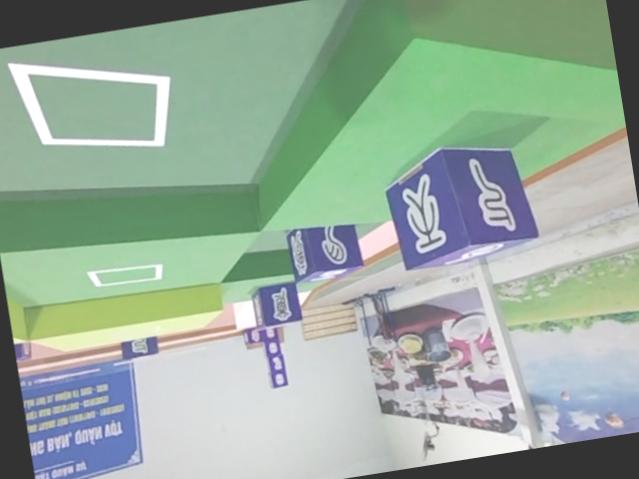R2 Fake Blue: (382, 130, 542, 270), (288, 218, 368, 285), (251, 278, 303, 327), (119, 335, 160, 362)
